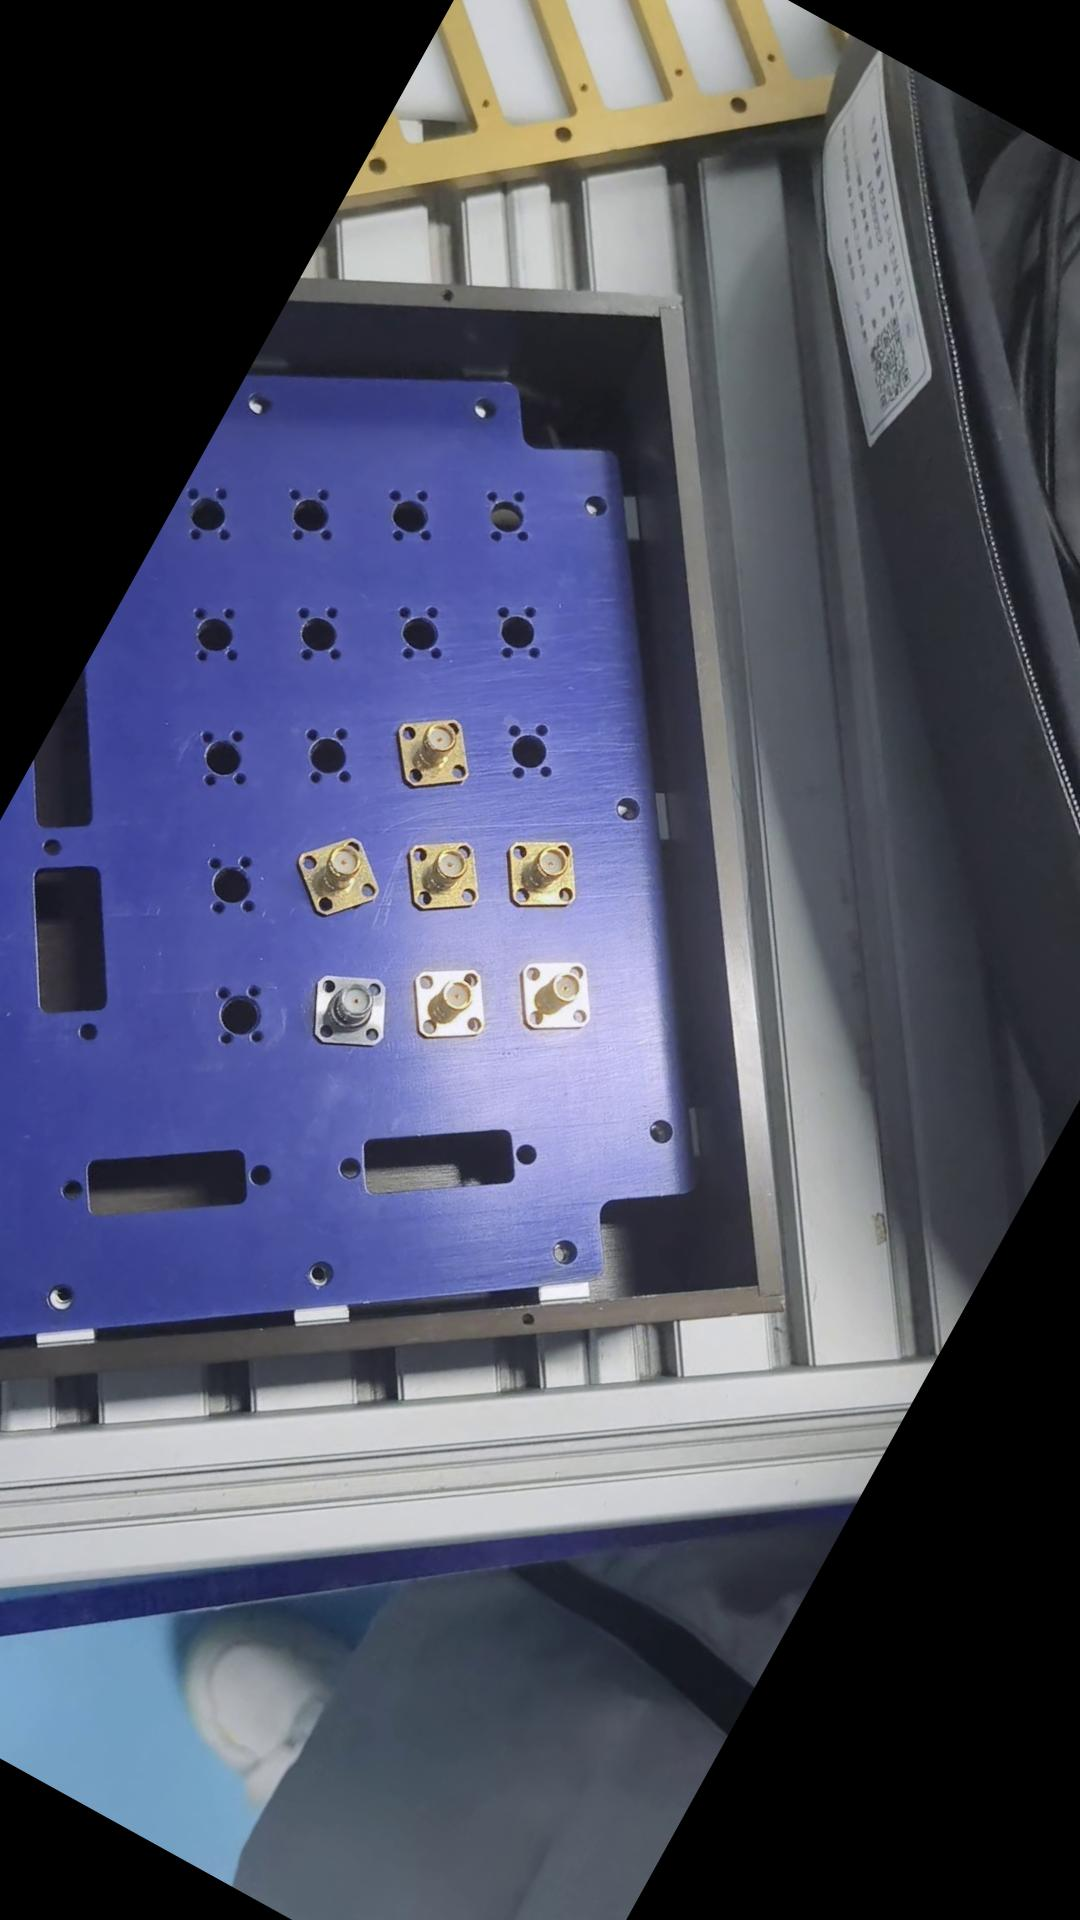SMA: (287, 949, 407, 1072), (274, 815, 392, 931), (382, 812, 496, 928), (388, 940, 500, 1056), (373, 698, 487, 808), (500, 938, 611, 1051), (483, 814, 593, 926)
